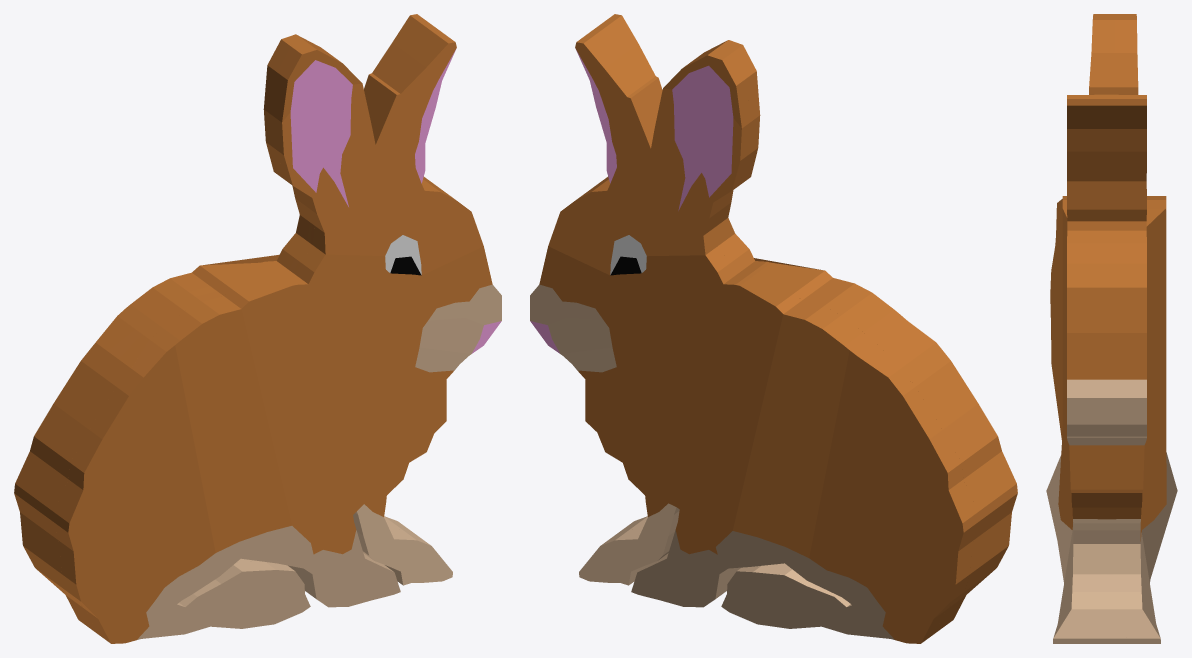
Rendered from Conejo.fbx.
The picture shows the model from 3 angles, left to right: view 1: azimuth 30°, elevation 25°; view 2: azimuth 150°, elevation 25°; view 3: azimuth 270°, elevation 25°; orthographic projection. The views are drawn at different scales.
Visible parts, largest first — view 1: Conejo; view 2: Conejo; view 3: Conejo.
Part boxes in pixels (x1,y1,x2,y2): Conejo: (14, 14, 501, 643); Conejo: (530, 14, 1017, 643); Conejo: (1046, 14, 1177, 643).
Size of the model in its own units: 15954 by 19183 by 3945.
